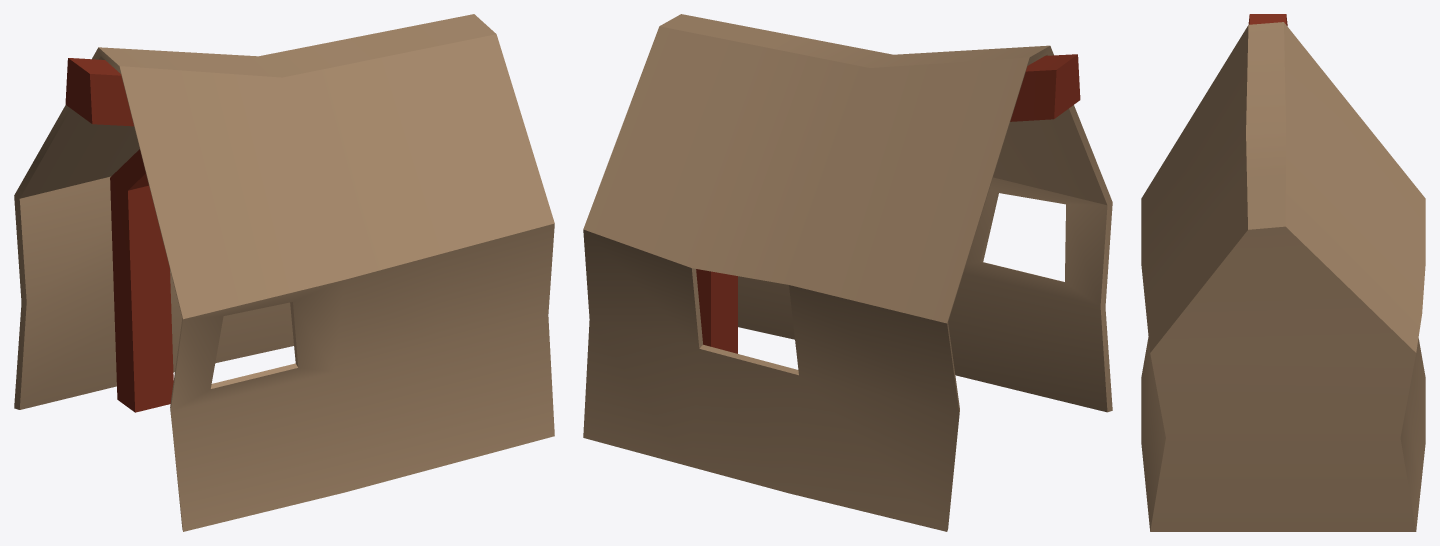
Rendered from meshTent1.fbx.
3 renders of one model, left to right at view 1: azimuth 30°, elevation 25°; view 2: azimuth 150°, elevation 25°; view 3: azimuth 270°, elevation 25°, orthographic. The views are drawn at different scales.
Parts seen in each view (by area): view 1: tent_big; view 2: tent_big; view 3: tent_big.
Part boxes in pixels (x1=…): tent_big: x1=14, y1=14, x2=554, y2=531; tent_big: x1=583, y1=14, x2=1112, y2=531; tent_big: x1=1141, y1=14, x2=1425, y2=531.
Bounding box in the file's own units: 220 × 217 × 157.
